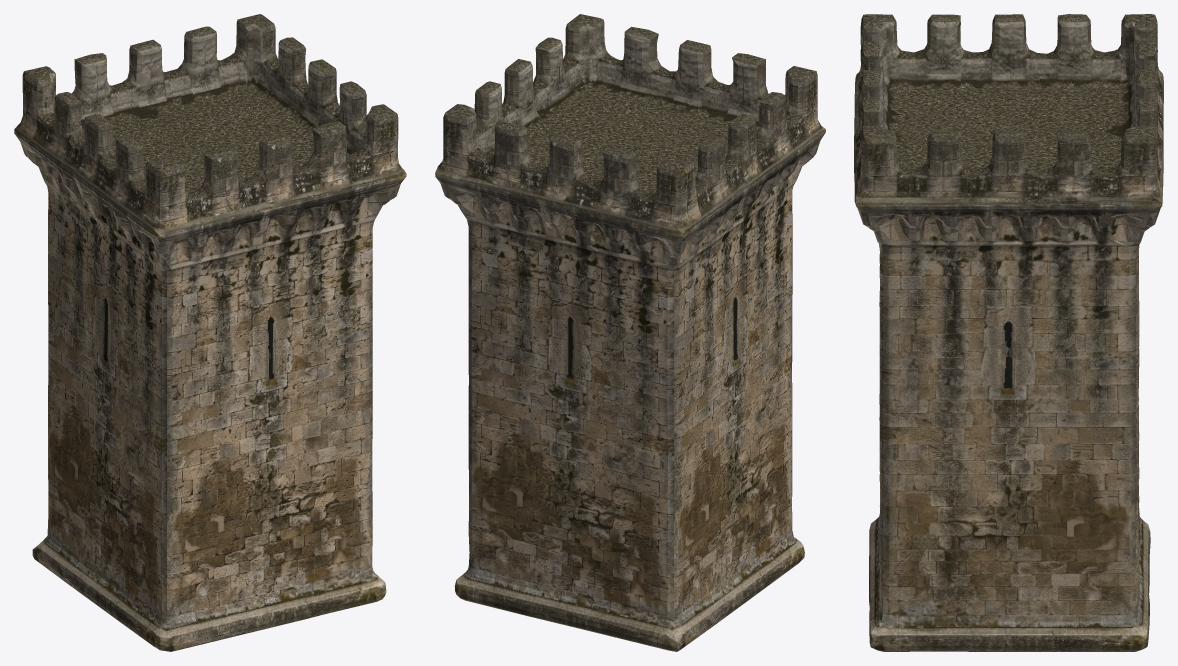
File: tower.glb
3 views of the same model, side by side, from view 1: azimuth 30°, elevation 25°; view 2: azimuth 150°, elevation 25°; view 3: azimuth 270°, elevation 25° (orthographic). The views are drawn at different scales.
Visible parts, largest first — view 1: lo; view 2: lo; view 3: lo.
Boxes of the visible parts, <box> form: lo: <box>14,14,406,651</box>; lo: <box>435,14,825,651</box>; lo: <box>854,14,1163,651</box>.
Size of the model in its own units: 5.58 by 10.4 by 5.6.
Materials: 1 (1 with a texture image).
